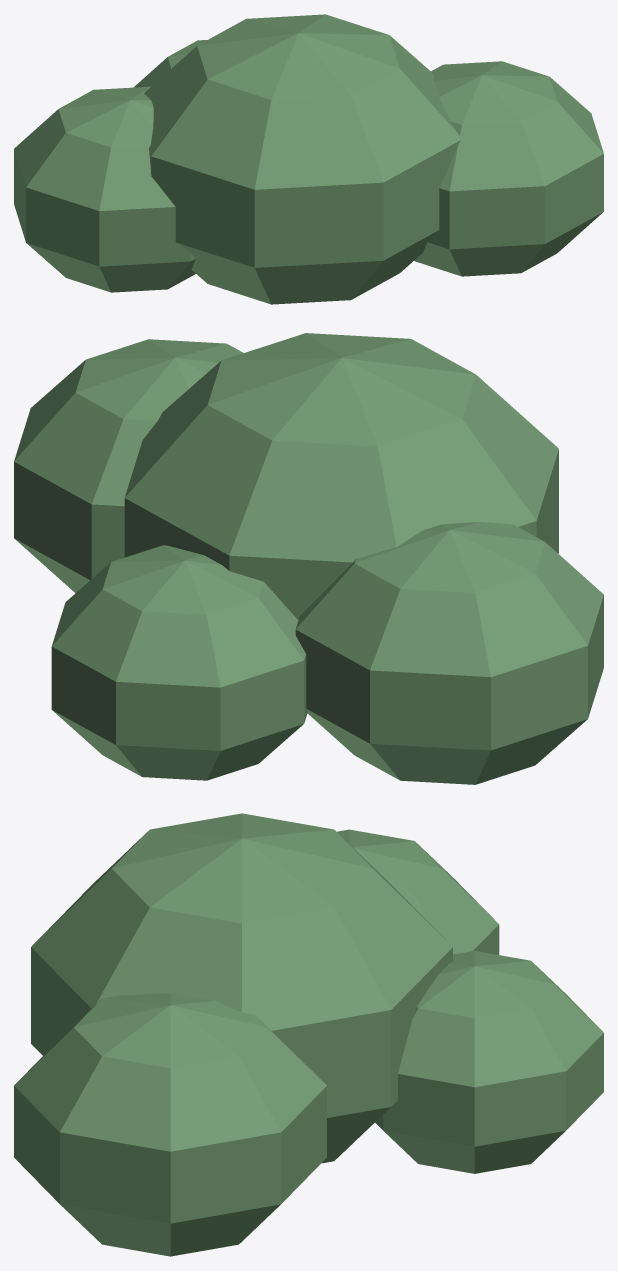
Rendered from golf-course-and-clubhouse-shrub-clump-23c1fb07__33507.glb.
3 renders of one model, top to bottom at view 1: azimuth 30°, elevation 25°; view 2: azimuth 150°, elevation 25°; view 3: azimuth 270°, elevation 25°, orthographic. The views are drawn at different scales.
Parts seen in each view (by area): view 1: shrub-clump; view 2: shrub-clump; view 3: shrub-clump.
Part boxes in pixels (x1,y1,x2,y2): shrub-clump: (14, 14, 603, 304); shrub-clump: (14, 333, 603, 784); shrub-clump: (14, 813, 603, 1256).
Bounding box in the file's own units: 1.98 × 0.9671 × 1.65.
